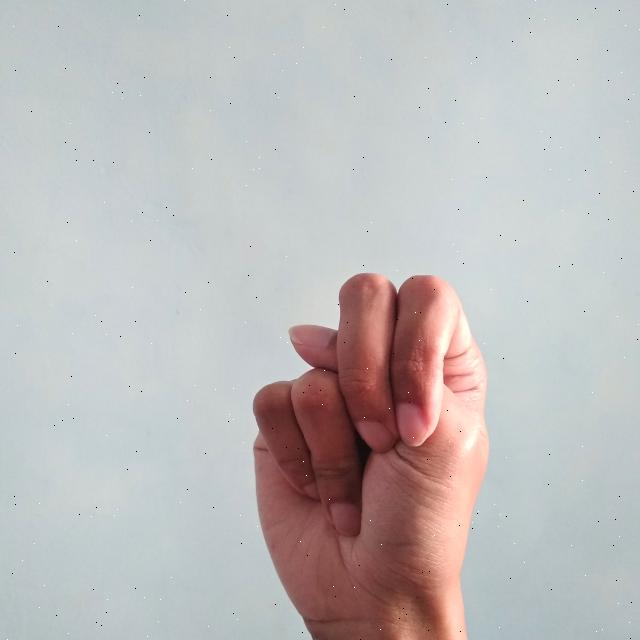N: (246, 261, 497, 640)
